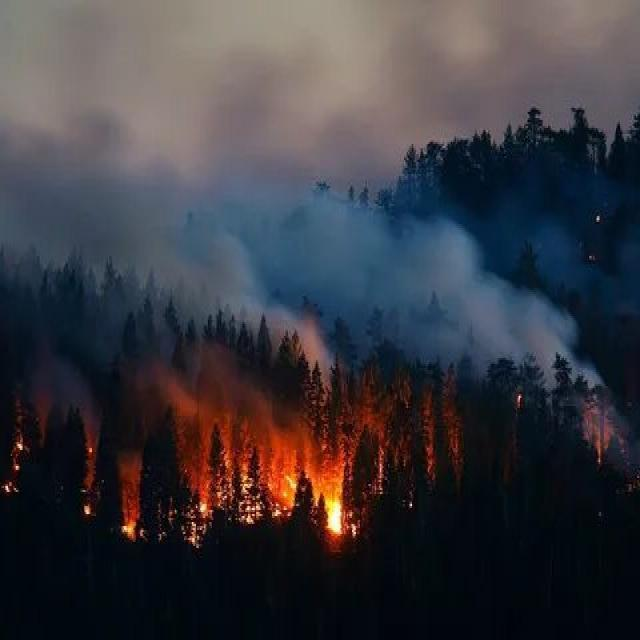Fire: (146, 414, 394, 572)
Smoke: (60, 150, 582, 369), (49, 0, 358, 347)
